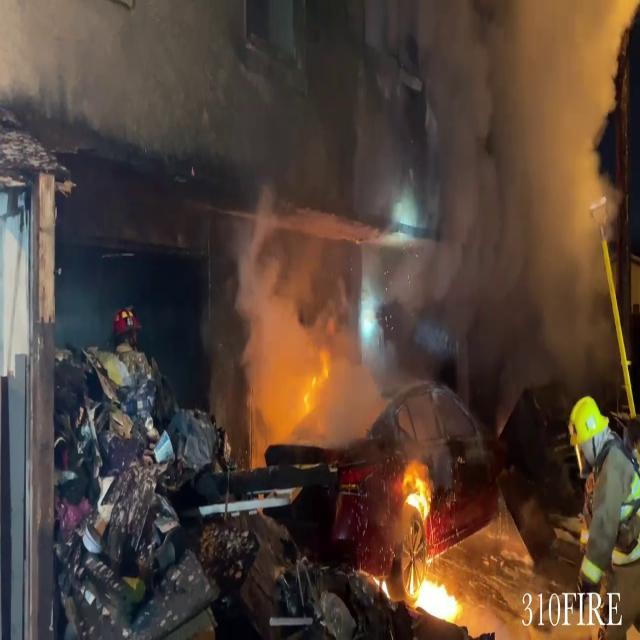Fire: (398, 562, 474, 630), (396, 456, 438, 528)
Smoke: (411, 0, 627, 373), (198, 172, 402, 450)
